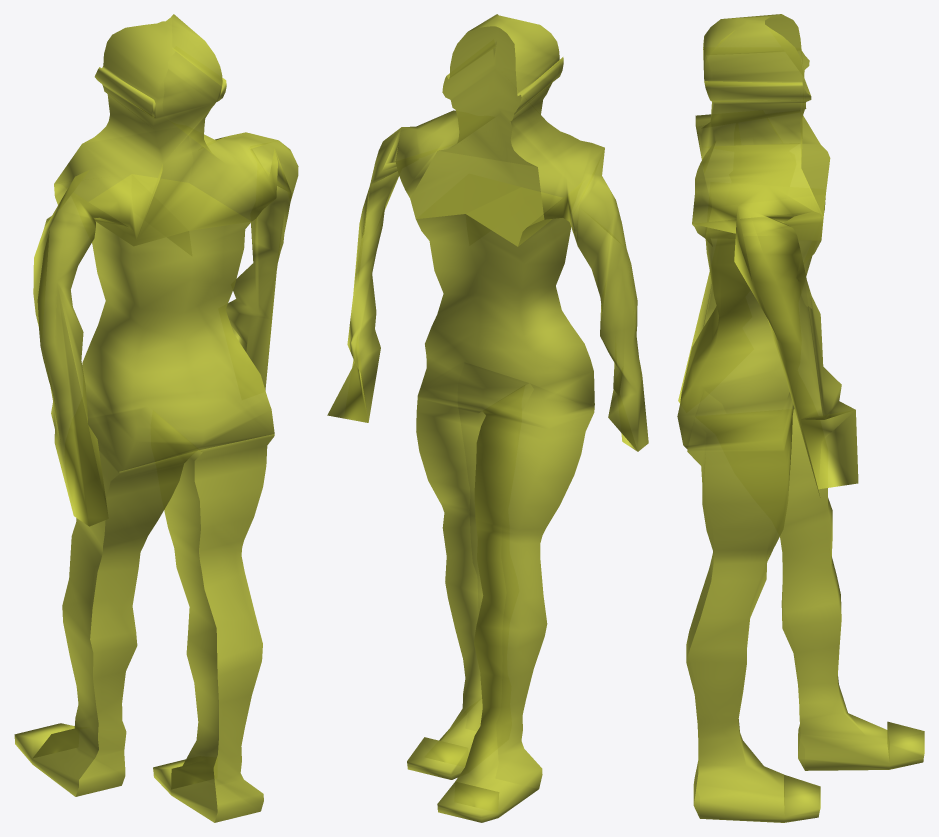
File: woman_000007.obj
The picture shows the model from 3 angles, left to right: view 1: azimuth 30°, elevation 25°; view 2: azimuth 150°, elevation 25°; view 3: azimuth 270°, elevation 25°; orthographic projection. The views are drawn at different scales.
Visible parts, largest first — view 1: Cube_Cube.001; view 2: Cube_Cube.001; view 3: Cube_Cube.001.
Part boxes in pixels (left/top/right/bottom): Cube_Cube.001: left=14, top=14, right=298, bottom=822; Cube_Cube.001: left=327, top=14, right=648, bottom=822; Cube_Cube.001: left=677, top=14, right=924, bottom=822.
Size of the model in its own units: 3.52 by 9.95 by 2.89.
